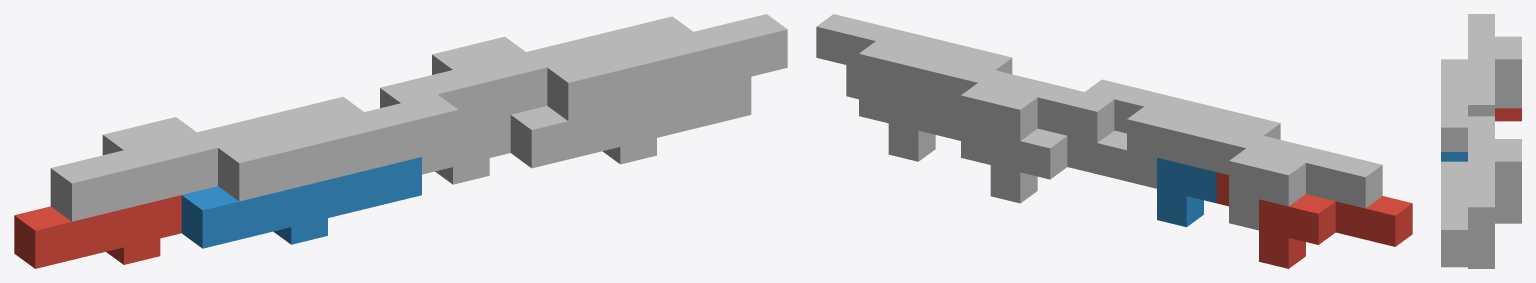
The model's file is tiling.obj.
3 renders of one model, left to right at view 1: azimuth 30°, elevation 25°; view 2: azimuth 150°, elevation 25°; view 3: azimuth 270°, elevation 25°, orthographic. The views are drawn at different scales.
Visible parts, largest first — view 1: copy_1_domain_4, copy_1_domain_8, copy_1_domain_3, copy_1_domain_6, copy_1_domain_2, copy_1_domain_7, copy_1_domain_1, copy_1_domain_5; view 2: copy_1_domain_3, copy_1_domain_7, copy_1_domain_8, copy_1_domain_4, copy_1_domain_1, copy_1_domain_5, copy_1_domain_6, copy_1_domain_2; view 3: copy_1_domain_8, copy_1_domain_3, copy_1_domain_7, copy_1_domain_4, copy_1_domain_6, copy_1_domain_1, copy_1_domain_5, copy_1_domain_2.
Part boxes in pixels (x1=…): copy_1_domain_4: x1=218, y1=94, x2=458, y2=201; copy_1_domain_8: x1=547, y1=14, x2=787, y2=120; copy_1_domain_3: x1=50, y1=114, x2=290, y2=221; copy_1_domain_6: x1=510, y1=76, x2=751, y2=168; copy_1_domain_2: x1=181, y1=157, x2=421, y2=248; copy_1_domain_7: x1=380, y1=34, x2=619, y2=127; copy_1_domain_1: x1=14, y1=195, x2=181, y2=268; copy_1_domain_5: x1=422, y1=115, x2=510, y2=184; copy_1_domain_3: x1=1186, y1=121, x2=1382, y2=230; copy_1_domain_7: x1=918, y1=55, x2=1114, y2=164; copy_1_domain_8: x1=816, y1=14, x2=1012, y2=123; copy_1_domain_4: x1=1085, y1=79, x2=1280, y2=188; copy_1_domain_1: x1=1216, y1=172, x2=1412, y2=268; copy_1_domain_5: x1=948, y1=107, x2=1126, y2=203; copy_1_domain_6: x1=846, y1=65, x2=948, y2=161; copy_1_domain_2: x1=1157, y1=157, x2=1216, y2=227; copy_1_domain_8: x1=1441, y1=161, x2=1494, y2=255; copy_1_domain_3: x1=1468, y1=14, x2=1521, y2=108; copy_1_domain_7: x1=1468, y1=116, x2=1521, y2=210; copy_1_domain_4: x1=1441, y1=59, x2=1494, y2=151; copy_1_domain_6: x1=1441, y1=254, x2=1494, y2=268; copy_1_domain_1: x1=1495, y1=108, x2=1521, y2=121; copy_1_domain_5: x1=1495, y1=210, x2=1521, y2=223; copy_1_domain_2: x1=1441, y1=152, x2=1467, y2=161.
Size of the model in its own units: 20 by 3 by 3.
